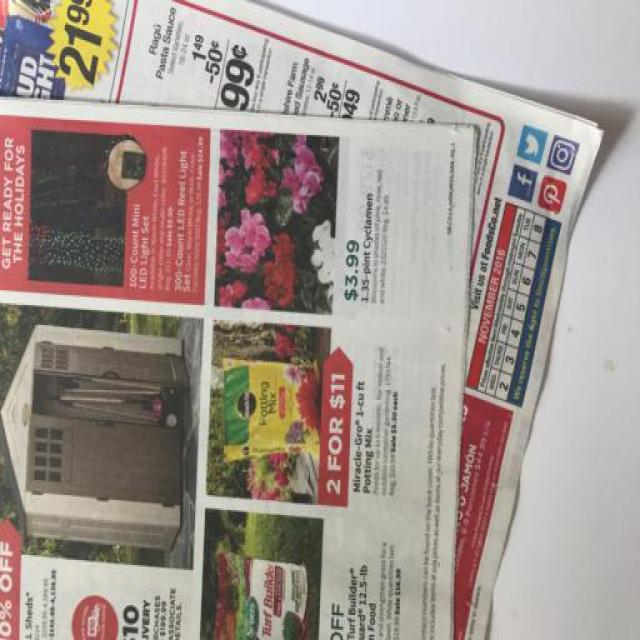paper: (4, 2, 598, 630)
